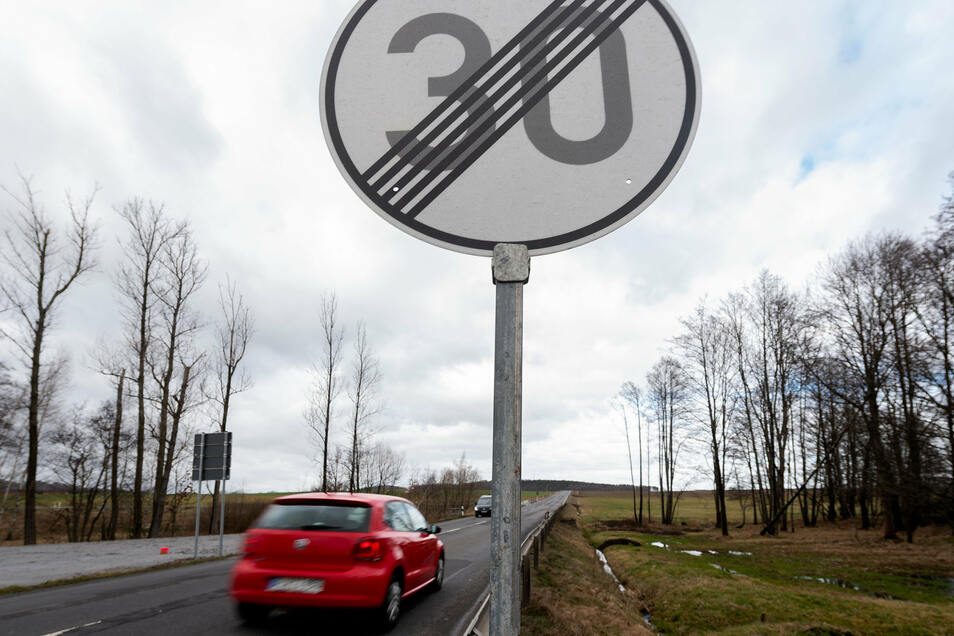aufgehoben: (321, 1, 703, 258)
